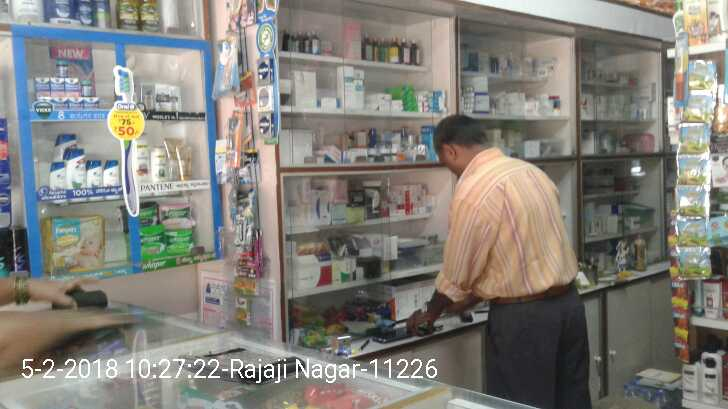beauty: (231, 198, 254, 247), (63, 149, 89, 192), (227, 111, 242, 166), (42, 162, 69, 191), (151, 84, 172, 115), (133, 146, 149, 185), (150, 146, 166, 183), (84, 162, 102, 190), (176, 148, 191, 177), (102, 161, 115, 186)
pharmacy: (41, 215, 110, 273), (161, 224, 197, 254), (142, 224, 165, 264), (155, 201, 192, 221), (27, 74, 52, 97), (48, 76, 66, 95), (52, 59, 76, 73), (62, 77, 84, 89)
